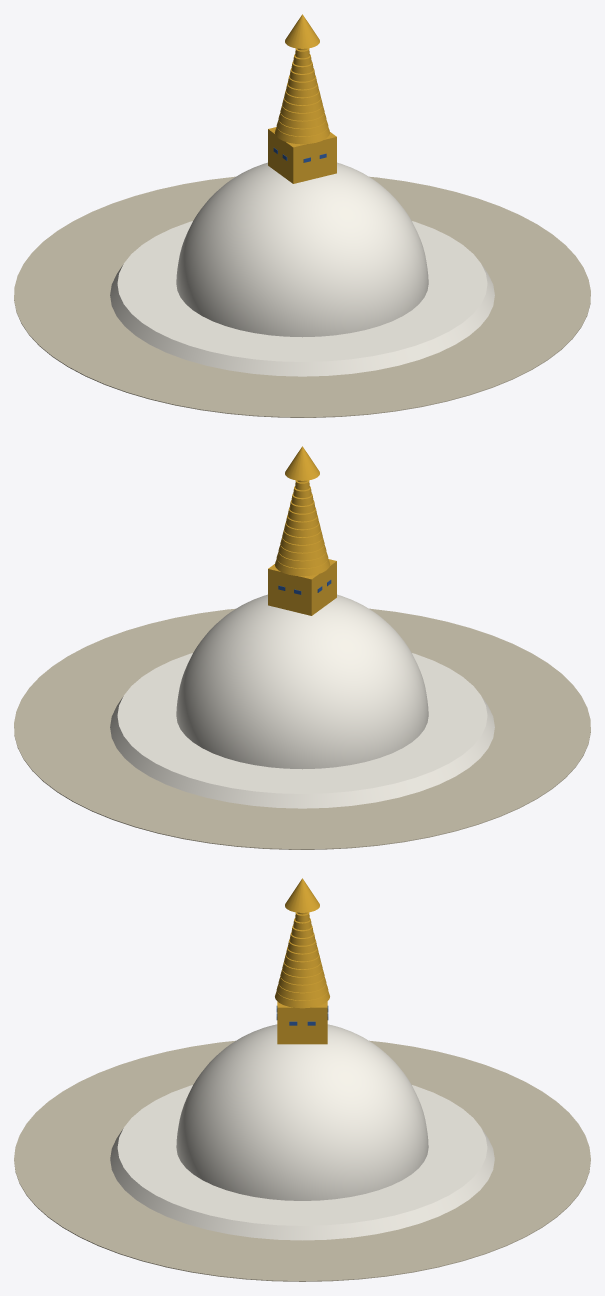
Rendered from swayambhunath.gltf.
3 renders of one model, top to bottom at view 1: azimuth 30°, elevation 25°; view 2: azimuth 150°, elevation 25°; view 3: azimuth 270°, elevation 25°, orthographic.
Parts seen in each view (by area): view 1: ground, dome, object 1, harmika, object 25; view 2: ground, dome, object 1, harmika, object 25; view 3: ground, dome, object 1, harmika, object 25.
Boxes of the visible parts, box(x1,y1,x2,y2) form: ground: box(14, 176, 590, 417); dome: box(176, 162, 428, 337); object 1: box(110, 221, 494, 376); harmika: box(268, 127, 336, 183); object 25: box(285, 14, 319, 48); ground: box(14, 608, 590, 849); dome: box(176, 594, 428, 769); object 1: box(110, 653, 494, 808); harmika: box(268, 559, 336, 615); object 25: box(285, 446, 319, 480); ground: box(14, 1040, 590, 1281); dome: box(176, 1024, 428, 1200); object 1: box(110, 1085, 494, 1240); harmika: box(277, 1001, 327, 1044); object 25: box(285, 878, 319, 912).
Bounding box in the file's own units: 68.64 × 37 × 68.64.
